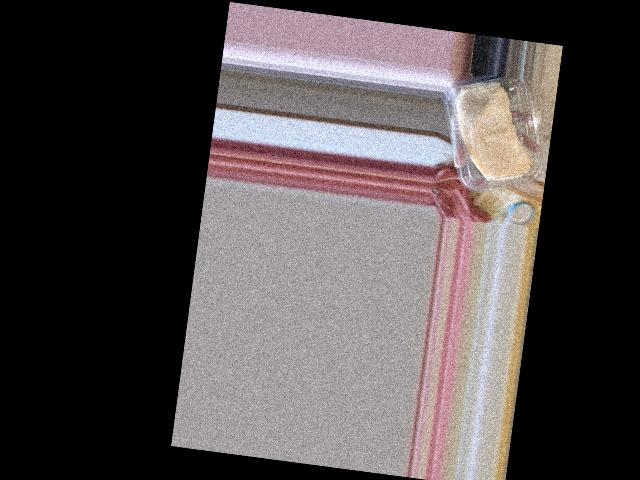cheese: (438, 69, 551, 201)
